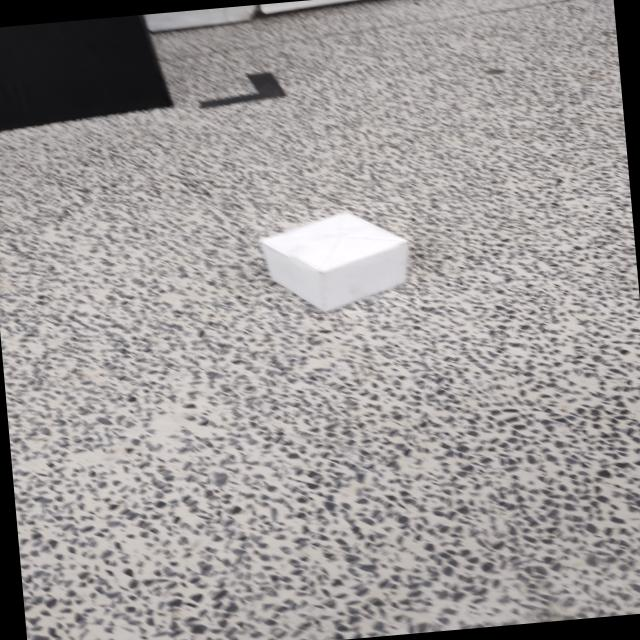bale: (255, 207, 413, 315)
